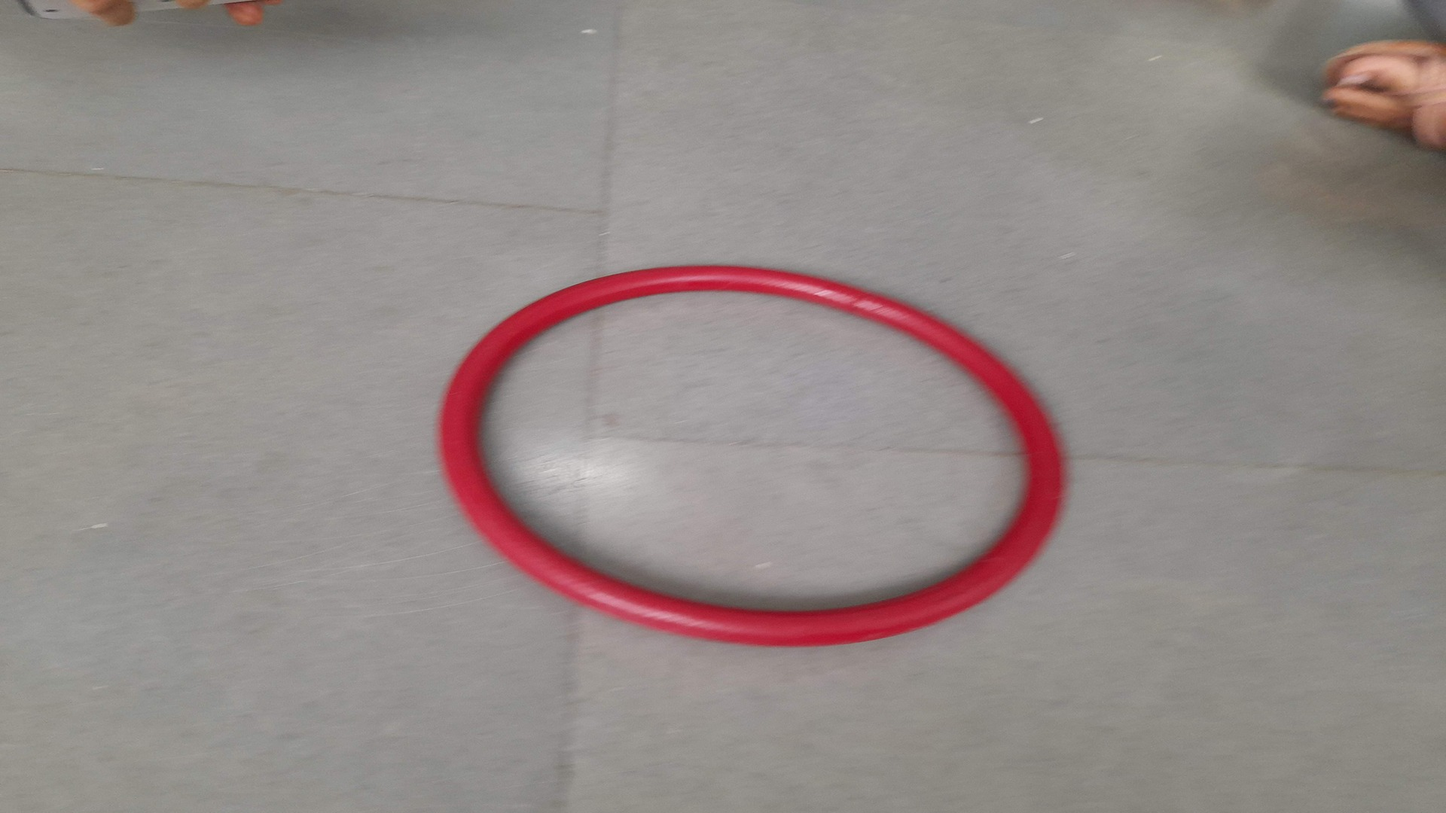Red ring: (441, 266, 1065, 644)
